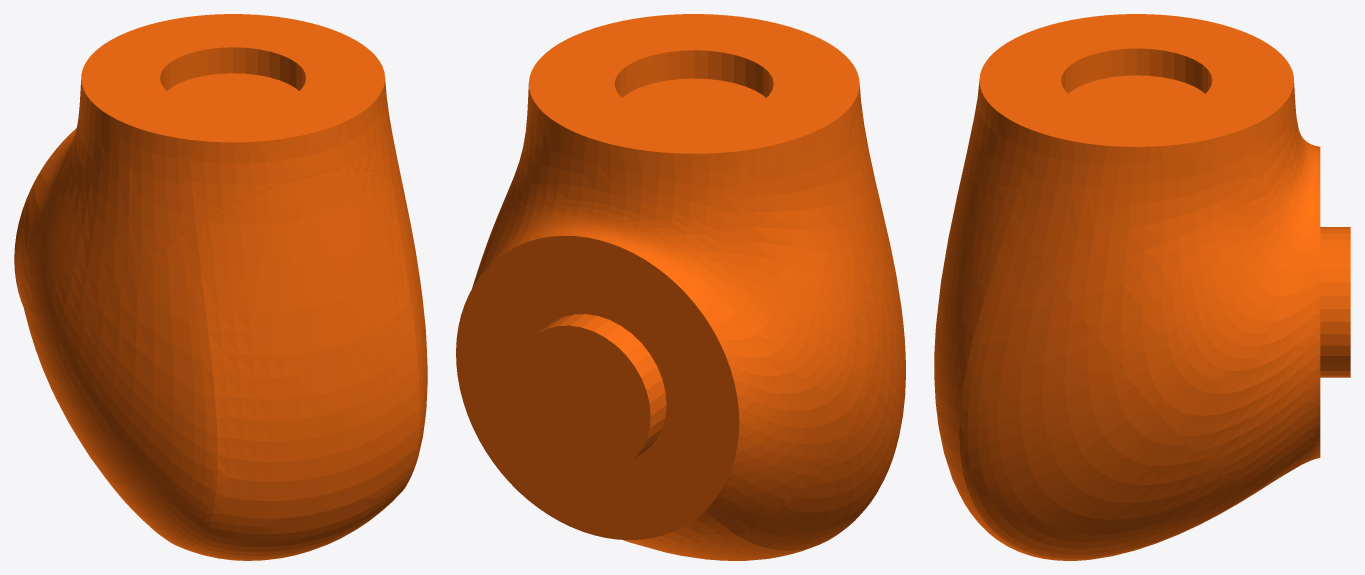
Rendered from iiwa_link_6_visuals_link_6_mesh.obj.
3 views of the same model, side by side, from view 1: azimuth 30°, elevation 25°; view 2: azimuth 150°, elevation 25°; view 3: azimuth 270°, elevation 25° (orthographic). The views are drawn at different scales.
Bounding box in the file's own units: 0.1323 × 0.1674 × 0.1376.
